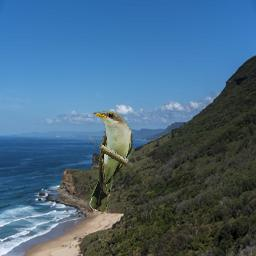Cuckoo: (89, 111, 133, 212)
